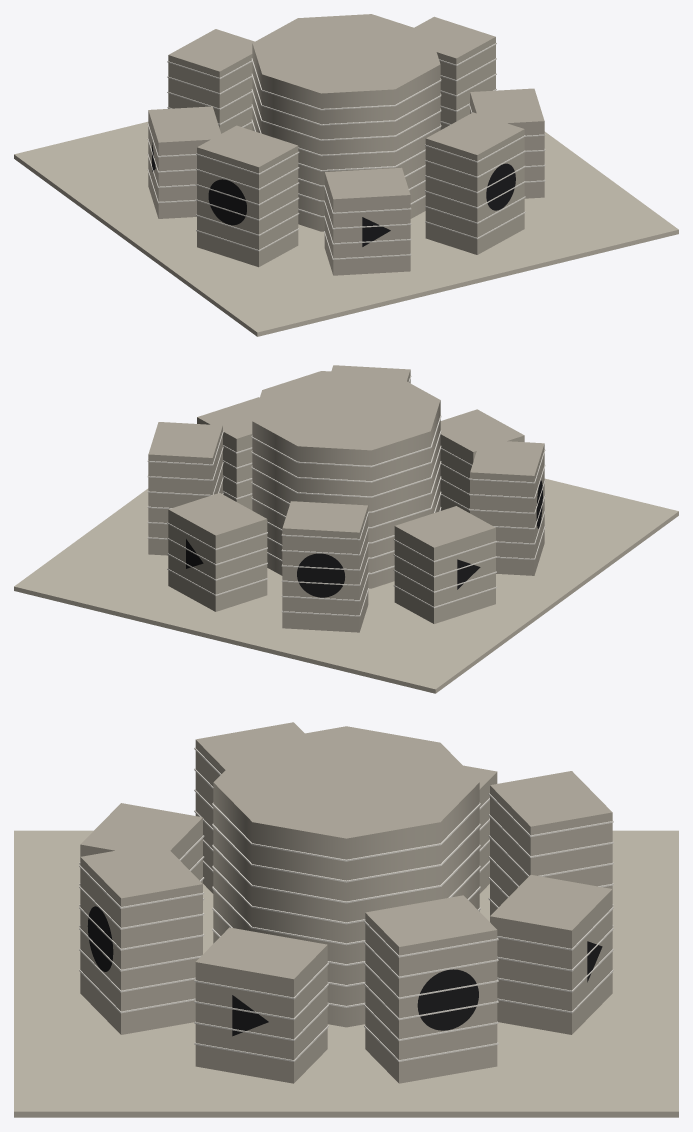
File: sangsad-bhaban.glb
3 renders of one model, top to bottom at view 1: azimuth 30°, elevation 25°; view 2: azimuth 150°, elevation 25°; view 3: azimuth 270°, elevation 25°, orthographic. The views are drawn at different scales.
Visible parts, largest first — view 1: sangsad-bhaban; view 2: sangsad-bhaban; view 3: sangsad-bhaban.
Boxes of the visible parts, left/top/right/bottom form: sangsad-bhaban: left=14, top=14, right=678, bottom=336; sangsad-bhaban: left=14, top=365, right=678, bottom=693; sangsad-bhaban: left=14, top=722, right=678, bottom=1117.
Bounding box in the file's own units: 150 × 48.5 × 150.
